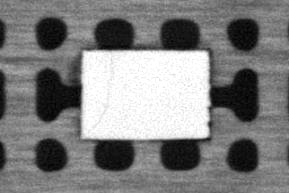DIE_CRACK: (88, 54, 113, 132)
